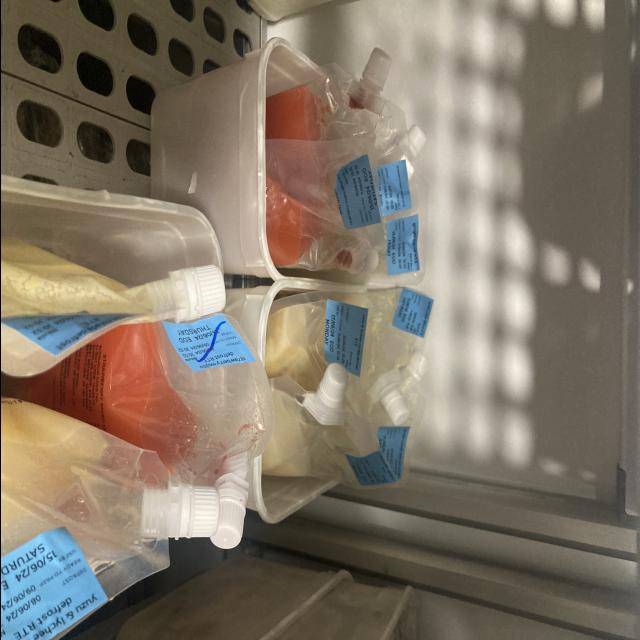product-labels: (0, 522, 109, 640), (160, 305, 254, 377), (327, 155, 380, 230), (318, 297, 367, 378), (390, 288, 434, 338), (373, 160, 412, 216), (344, 448, 397, 488), (384, 215, 419, 275), (374, 427, 407, 479)
